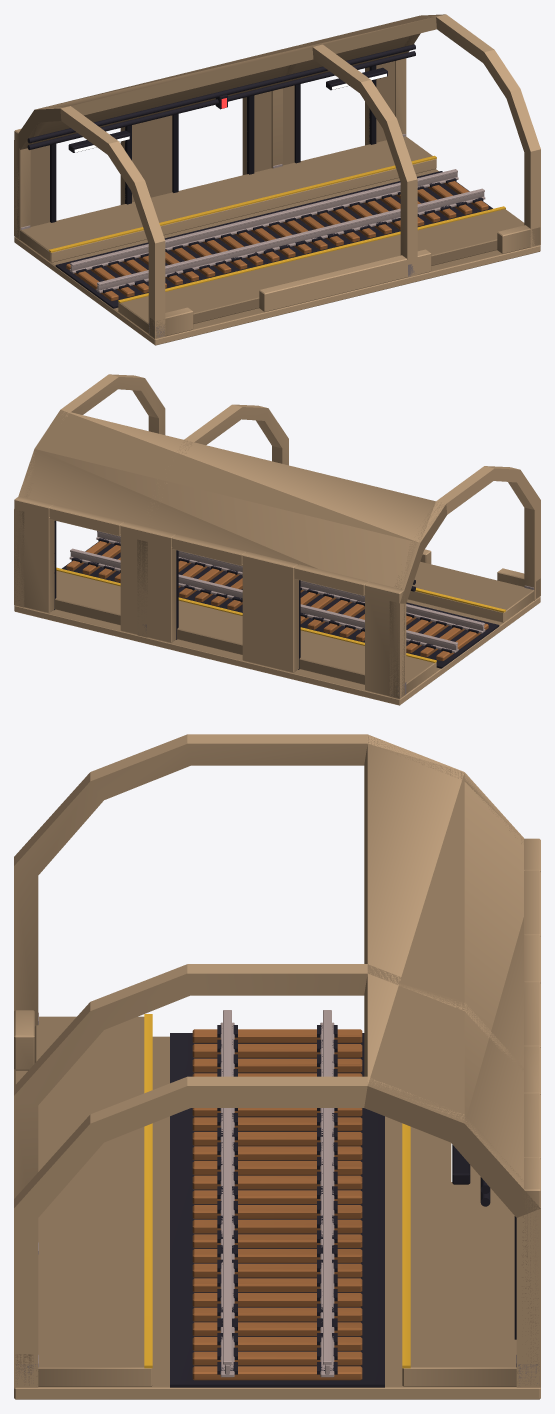
File: kit.metro-tunnel.glb
3 renders of one model, top to bottom at view 1: azimuth 30°, elevation 25°; view 2: azimuth 150°, elevation 25°; view 3: azimuth 270°, elevation 25°, orthographic. The views are drawn at different scales.
Visible parts, largest first — view 1: body, roof; view 2: body, roof; view 3: body, roof.
Part boxes in pixels (x1,y1,x2,y2): body: (14, 44, 540, 345); roof: (14, 14, 540, 339); body: (14, 496, 540, 705); roof: (14, 374, 540, 699); body: (14, 838, 540, 1399); roof: (14, 734, 540, 1387).
Bounding box in the file's own units: 12 × 5 × 7.6.
